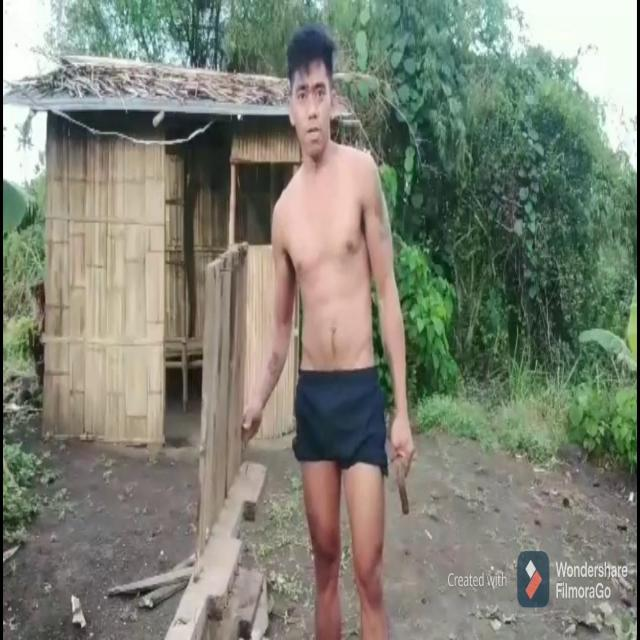hammer: (392, 450, 411, 520)
